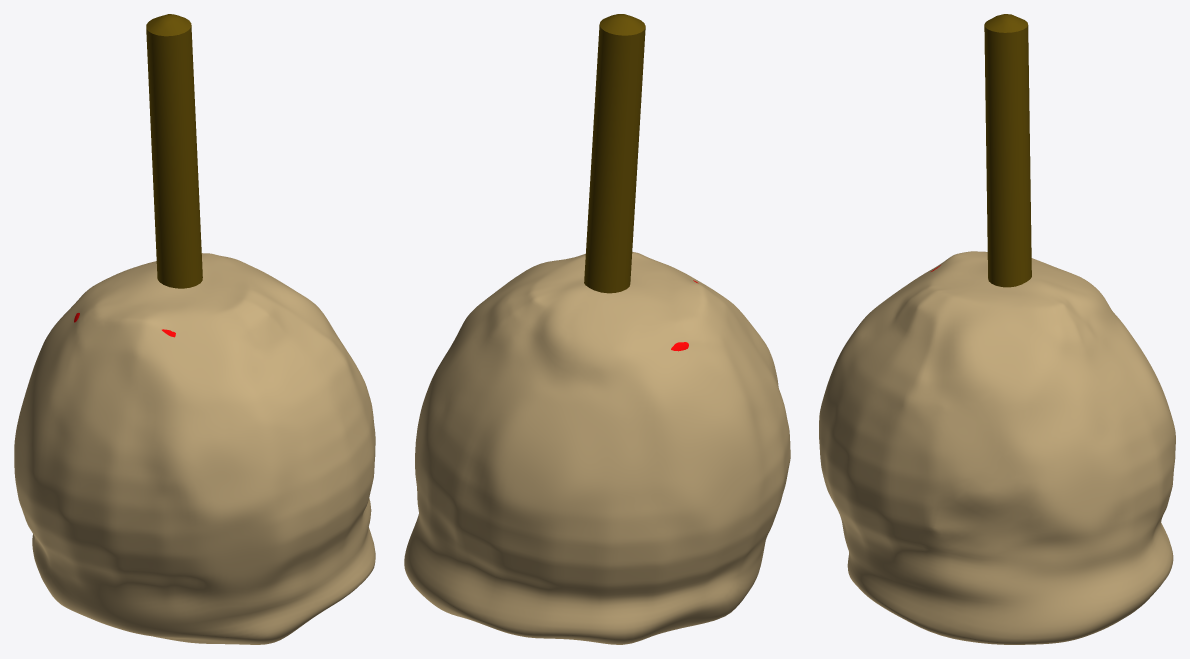
File: SM_CandiedApple.fbx
3 renders of one model, left to right at view 1: azimuth 30°, elevation 25°; view 2: azimuth 150°, elevation 25°; view 3: azimuth 270°, elevation 25°, orthographic. The views are drawn at different scales.
Parts seen in each view (by area): view 1: Caramel, Stick; view 2: Caramel, Stick; view 3: Caramel, Stick.
Part boxes in pixels (left/top/right/bottom): Caramel: left=14, top=253, right=375, bottom=644; Stick: left=146, top=14, right=202, bottom=288; Caramel: left=404, top=252, right=790, bottom=644; Stick: left=584, top=14, right=645, bottom=293; Caramel: left=819, top=251, right=1175, bottom=644; Stick: left=984, top=14, right=1031, bottom=287.
Bounding box in the file's own units: 53.82 × 92.61 × 53.18.
